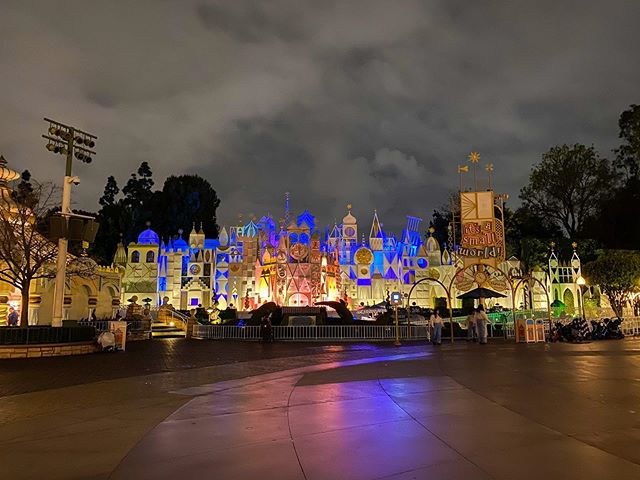building: (99, 208, 544, 319)
sky: (17, 1, 640, 181)
tree: (514, 144, 619, 247), (154, 171, 225, 238), (605, 96, 640, 231), (117, 155, 162, 232), (93, 171, 123, 249)
